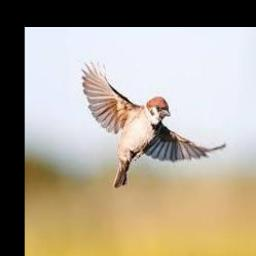Sparrow: (80, 58, 226, 187)
